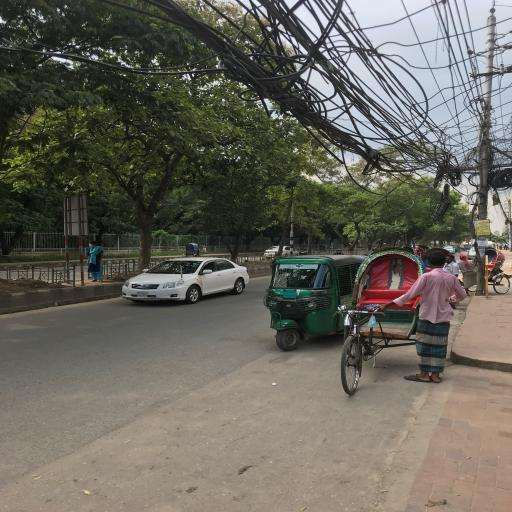car: (118, 257, 252, 306), (265, 246, 300, 258), (443, 246, 457, 255)
rickshaw: (332, 246, 427, 400), (485, 247, 512, 296), (182, 244, 205, 259)
three wheelers (CNG): (263, 254, 366, 353), (453, 245, 463, 254), (464, 245, 473, 252)
